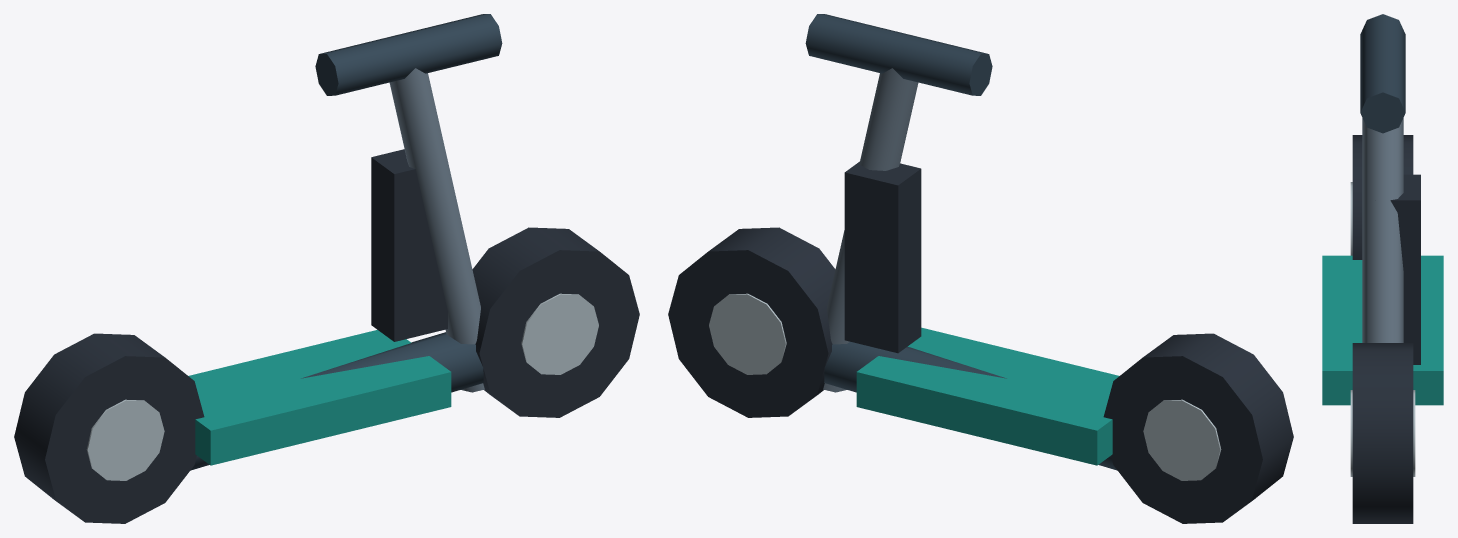
The picture shows the model from 3 angles, left to right: view 1: azimuth 30°, elevation 25°; view 2: azimuth 150°, elevation 25°; view 3: azimuth 270°, elevation 25°; orthographic projection.
Visible parts, largest first — view 1: wheel (×2), beam (×3), deck, battery, hub (×2); view 2: wheel (×2), deck, beam (×3), battery, hub (×2); view 3: beam (×2), wheel (×2), deck, battery, hub (×2).
Boxes of the visible parts, x1=… form: wheel (×2): x1=14, y1=227, x2=639, y2=523; beam (×3): x1=190, y1=14, x2=502, y2=470; deck: x1=188, y1=330, x2=451, y2=465; battery: x1=371, y1=149, x2=447, y2=341; hub (×2): x1=86, y1=293, x2=598, y2=480; wheel (×2): x1=668, y1=227, x2=1293, y2=523; deck: x1=856, y1=327, x2=1119, y2=465; beam (×3): x1=805, y1=14, x2=1117, y2=470; battery: x1=844, y1=161, x2=921, y2=353; hub (×2): x1=709, y1=293, x2=1221, y2=480; beam (×2): x1=1360, y1=14, x2=1405, y2=342; wheel (×2): x1=1352, y1=135, x2=1413, y2=523; deck: x1=1322, y1=255, x2=1443, y2=405; battery: x1=1390, y1=174, x2=1420, y2=364; hub (×2): x1=1350, y1=182, x2=1415, y2=476.
Size of the model in its own units: 1.78 by 1.16 by 0.32.
